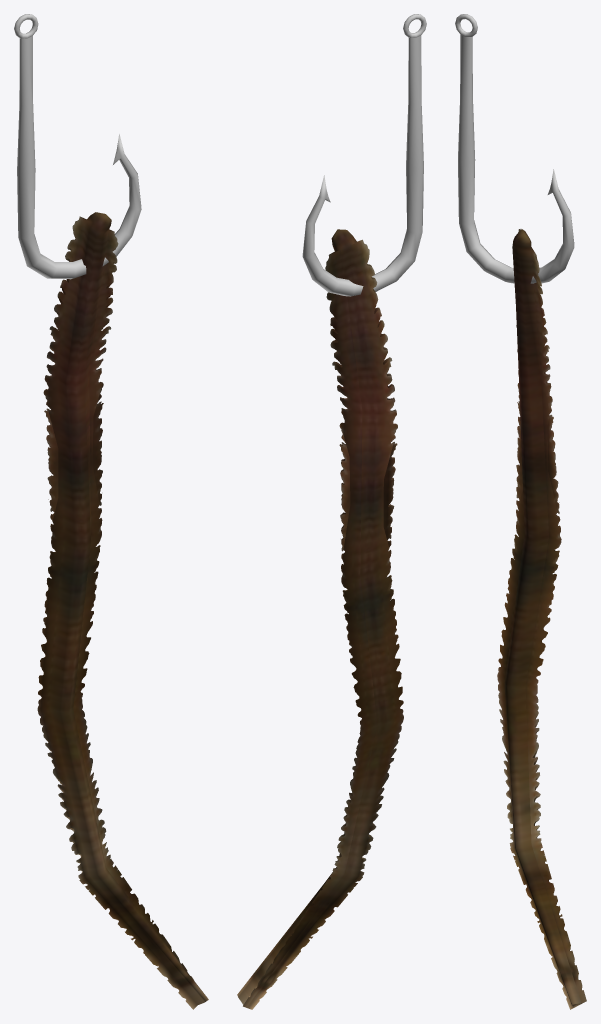
Rendered from Bait_ClamWorm.fbx.
3 renders of one model, left to right at view 1: azimuth 30°, elevation 25°; view 2: azimuth 210°, elevation 25°; view 3: azimuth 330°, elevation 25°, orthographic. The views are drawn at different scales.
Parts seen in each view (by area): view 1: Bait_ClamWorm; view 2: Bait_ClamWorm; view 3: Bait_ClamWorm.
Boxes of the visible parts, bbox=[...] form: Bait_ClamWorm: bbox=[14, 14, 208, 1009]; Bait_ClamWorm: bbox=[237, 14, 426, 1009]; Bait_ClamWorm: bbox=[455, 14, 586, 1009].
Bounding box in the file's own units: 0.2743 × 1.61 × 0.1574.
